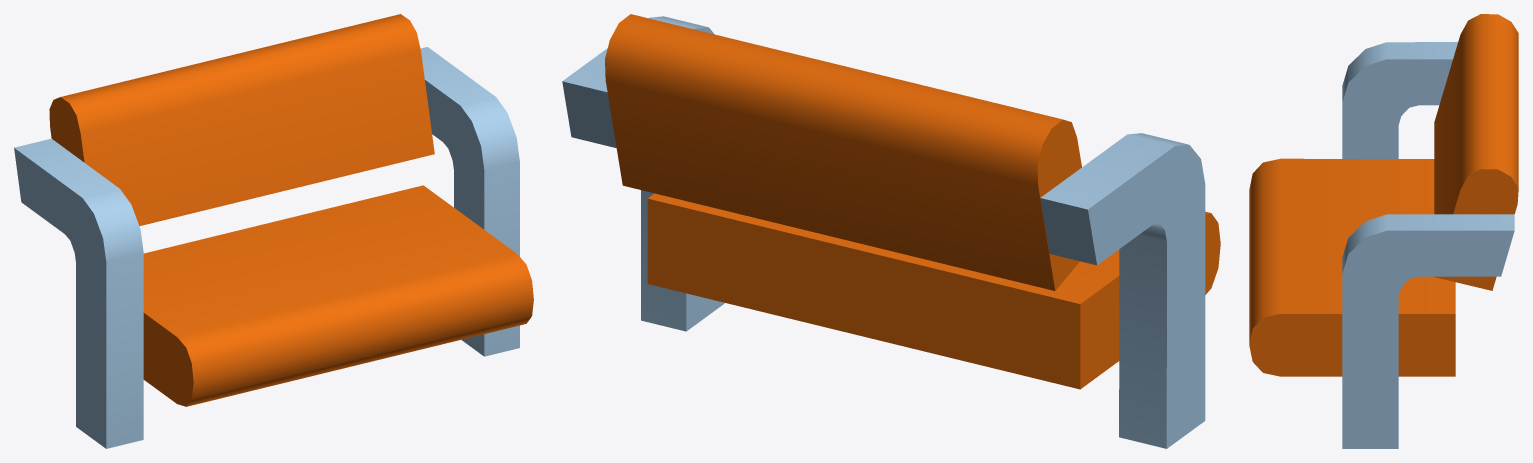
File: bench01_s03.FBX
3 renders of one model, left to right at view 1: azimuth 30°, elevation 25°; view 2: azimuth 150°, elevation 25°; view 3: azimuth 270°, elevation 25°, orthographic. The views are drawn at different scales.
Parts seen in each view (by area): view 1: bench01_s03; view 2: bench01_s03; view 3: bench01_s03.
Boxes of the visible parts, bbox=[...] form: bench01_s03: bbox=[14, 14, 533, 448]; bench01_s03: bbox=[562, 14, 1220, 448]; bench01_s03: bbox=[1249, 14, 1518, 448].
Bounding box in the file's own units: 179 × 108 × 116.
Materials: 1 (1 with a texture image).
